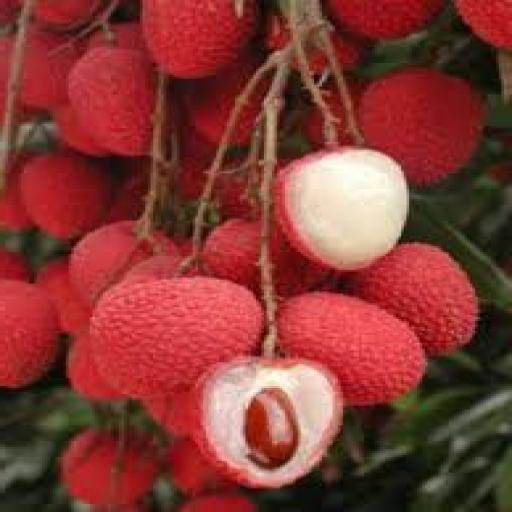lychee: (89, 278, 260, 399), (190, 359, 342, 488), (277, 292, 423, 405), (274, 148, 408, 269), (358, 67, 481, 185), (351, 243, 476, 354), (68, 48, 154, 155), (142, 0, 257, 78), (68, 221, 175, 303), (21, 152, 112, 240), (60, 430, 157, 506), (182, 56, 257, 143), (0, 280, 57, 387), (21, 30, 80, 110), (324, 0, 442, 39), (200, 219, 260, 291), (36, 258, 91, 334), (65, 331, 123, 401), (166, 438, 233, 496), (52, 105, 107, 157), (453, 0, 511, 49), (0, 154, 33, 230), (142, 388, 191, 437), (87, 22, 146, 53), (34, 0, 99, 27), (179, 493, 255, 511), (0, 249, 30, 281)
